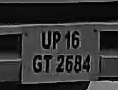1: (63, 29, 72, 51)
2: (56, 54, 66, 75)
4: (81, 55, 92, 74)
6: (70, 30, 83, 51), (65, 52, 75, 77)
8: (74, 55, 83, 76)
G: (31, 52, 44, 75)
P: (51, 31, 63, 52)
T: (42, 54, 54, 74)
U: (40, 28, 52, 51)
